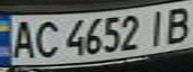2: (118, 11, 145, 52)
4: (63, 16, 87, 57)
5: (103, 14, 124, 54)
6: (81, 15, 106, 56)
A: (6, 17, 39, 60)
B: (160, 3, 193, 45)
C: (30, 18, 63, 58)
I: (142, 7, 172, 47)
